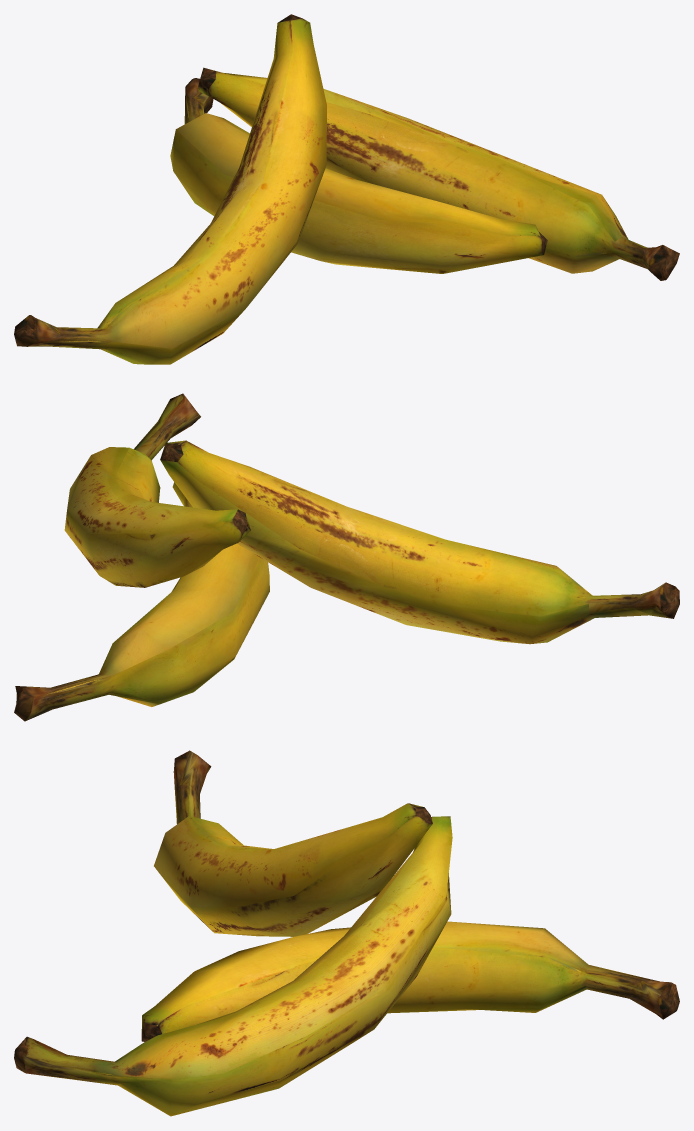
The model's file is platano.obj.
The picture shows the model from 3 angles, top to bottom: view 1: azimuth 30°, elevation 25°; view 2: azimuth 150°, elevation 25°; view 3: azimuth 270°, elevation 25°; orthographic projection. The views are drawn at different scales.
Parts seen in each view (by area): view 1: Box018, Box006, Box007; view 2: Box018, Box007, Box006; view 3: Box006, Box007, Box018.
Part boxes in pixels (x1=…): Box018: x1=14, y1=14, x2=326, y2=364; Box006: x1=198, y1=67, x2=679, y2=280; Box007: x1=170, y1=78, x2=547, y2=273; Box018: x1=160, y1=440, x2=679, y2=644; Box007: x1=14, y1=482, x2=269, y2=721; Box006: x1=64, y1=393, x2=250, y2=587; Box006: x1=14, y1=816, x2=452, y2=1116; Box007: x1=141, y1=921, x2=679, y2=1041; Box018: x1=154, y1=750, x2=432, y2=936.
Size of the model in its own units: 0.1583 by 0.0544 by 0.1494.
Materials: 2 (2 with a texture image).
